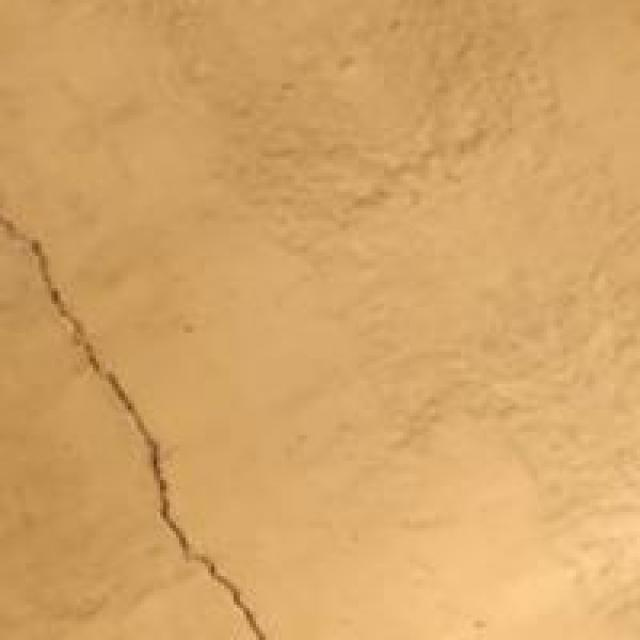crack: (0, 186, 259, 636)
